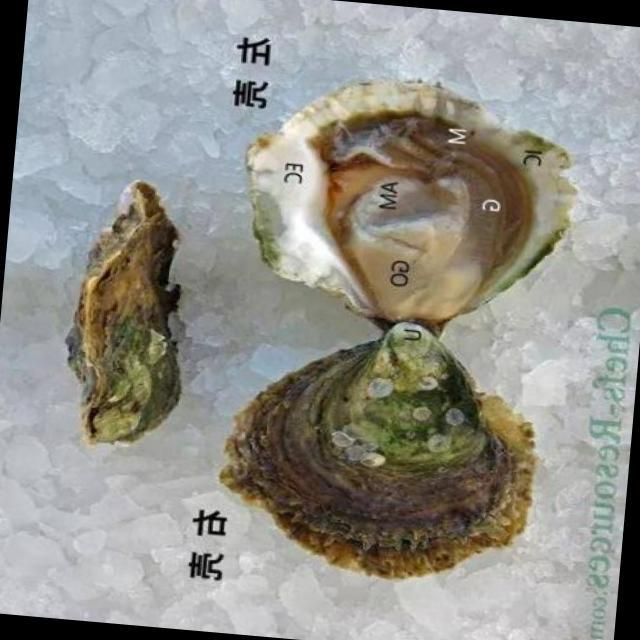Oyster- Indeterminate: (224, 68, 579, 354)
Oyster-Closed: (45, 165, 206, 454)
Oyster-Open: (206, 304, 556, 596)
